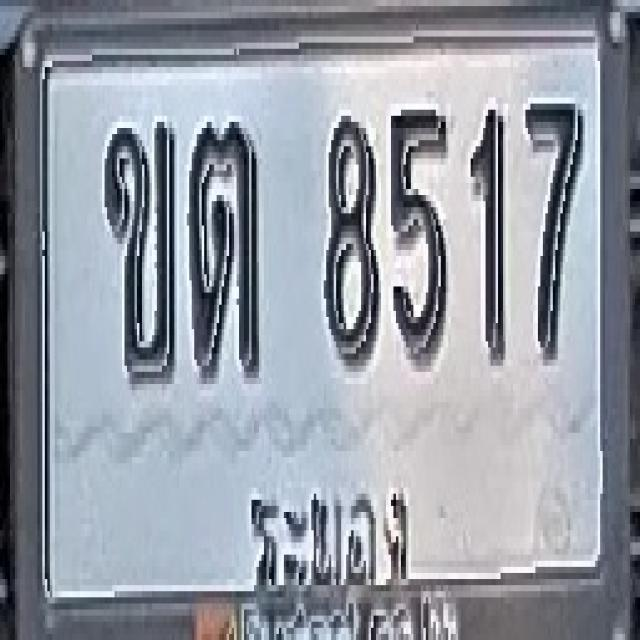-: (104, 116, 176, 384), (188, 116, 260, 378)
1: (469, 104, 507, 366)
5: (388, 104, 448, 366)
7: (524, 98, 582, 360)
8: (324, 110, 378, 366)
RYG: (243, 456, 416, 604)
